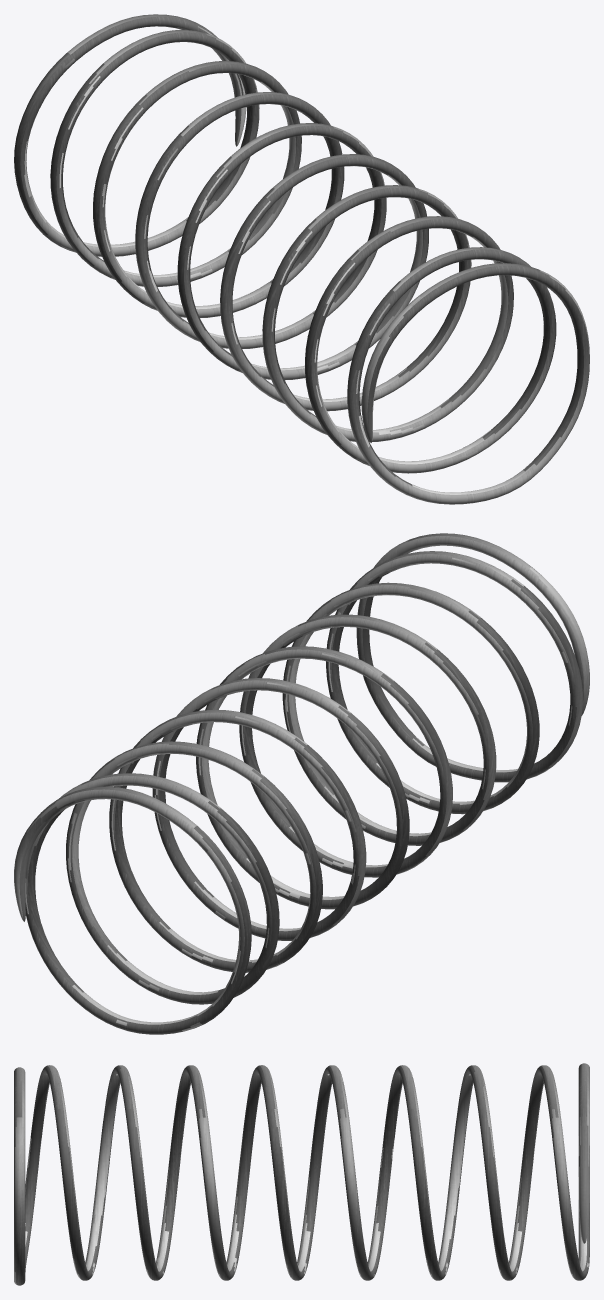
File: resorte.obj
The picture shows the model from 3 angles, top to bottom: view 1: azimuth 30°, elevation 25°; view 2: azimuth 150°, elevation 25°; view 3: azimuth 270°, elevation 25°; orthographic projection. The views are drawn at different scales.
Visible parts, largest first — view 1: Spring:Mesh; view 2: Spring:Mesh; view 3: Spring:Mesh.
Boxes of the visible parts, x1,y1,x2,y2 form: Spring:Mesh: (14, 14, 589, 504); Spring:Mesh: (14, 533, 589, 1034); Spring:Mesh: (14, 1063, 589, 1285).
Size of the model in its own units: 1.67 by 1.61 by 4.26.
Materials: 1 (1 with a texture image).
